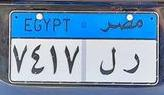1: (49, 45, 58, 75)
4: (30, 43, 43, 75)
7: (62, 45, 82, 74), (11, 44, 28, 73)
laam: (97, 46, 119, 78)
raa: (123, 52, 140, 77)
